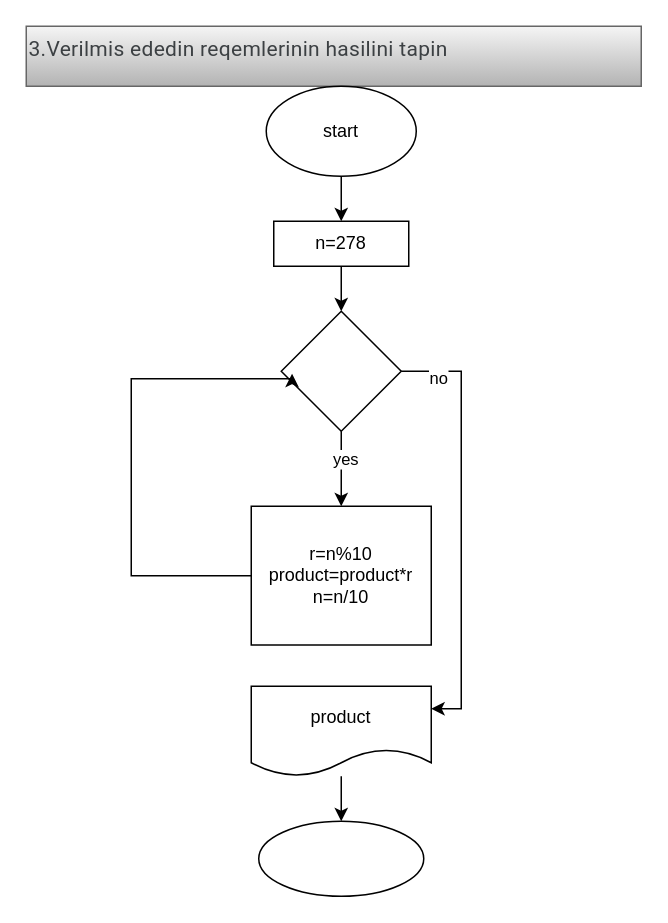
The diagram is 668 pixels wide and 923 high, and some of its shapes have lost their labels. Each missing label, with the box of its shape:
end: (257, 820, 424, 896)
n>0: (280, 310, 401, 431)
